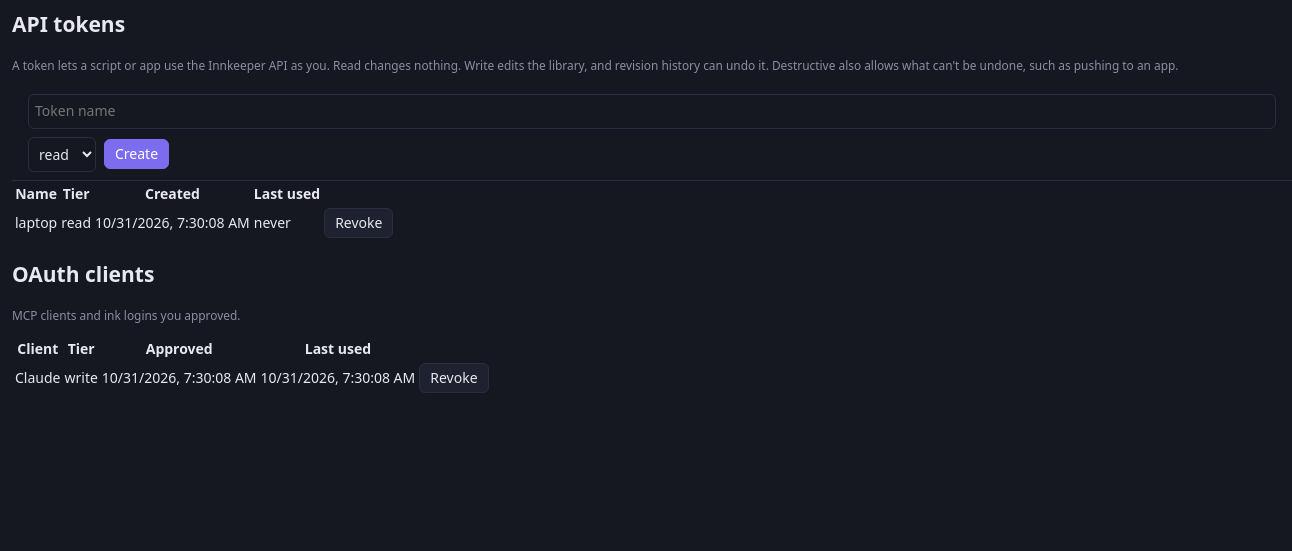
creates a token up to the caller's tier and shows its secret once
Type "ci" into the field labelled "Token name". click: [652, 112]
box: [28, 94, 1276, 129]
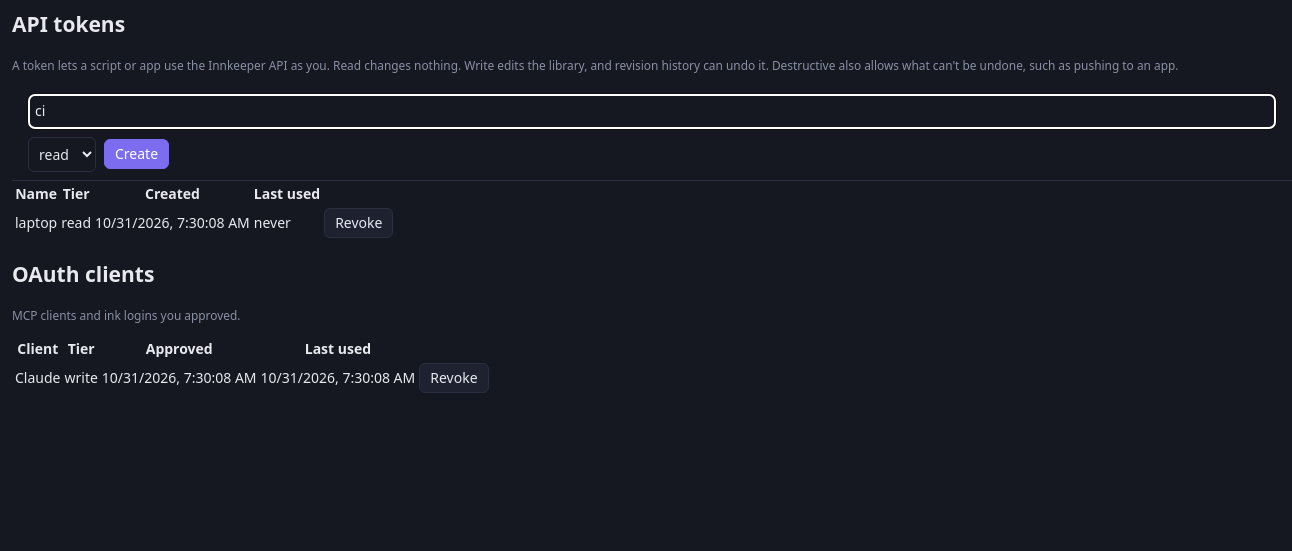
Select "write" in the dropdown named "Tier". click: [62, 154]
box: [28, 137, 96, 172]
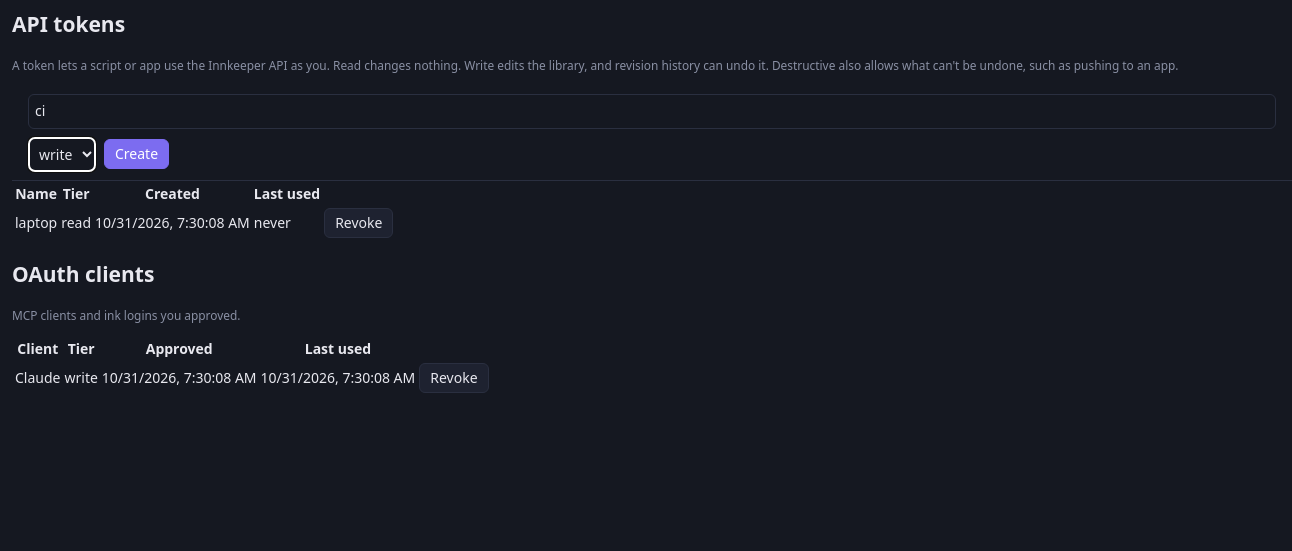
Click the button "Create". click: [137, 154]
box: [104, 139, 169, 169]
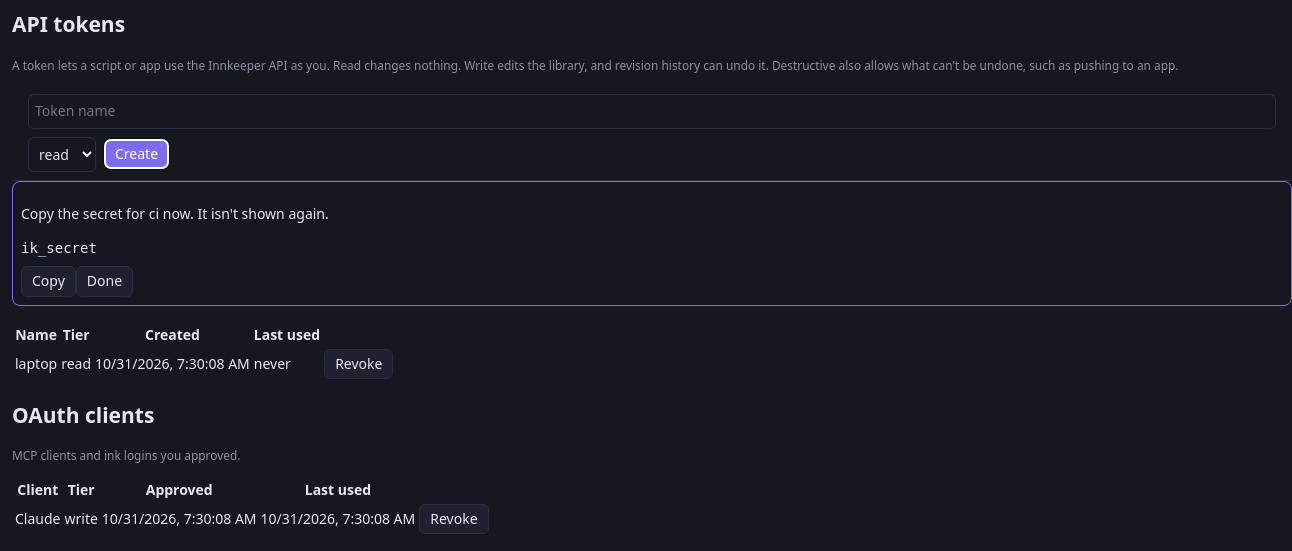
expect the text "ik_secret" is shown: met, box [21, 240, 97, 256]
Click the button "Done". click: [104, 281]
box: [76, 266, 133, 297]
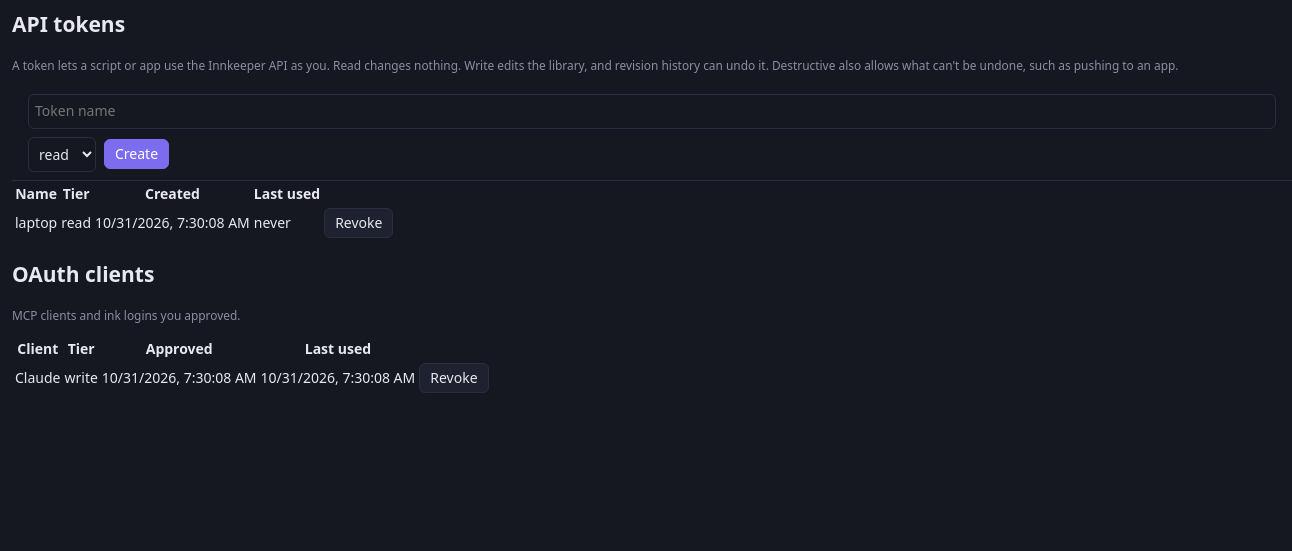
expect the text "ik_secret" is gone: met
